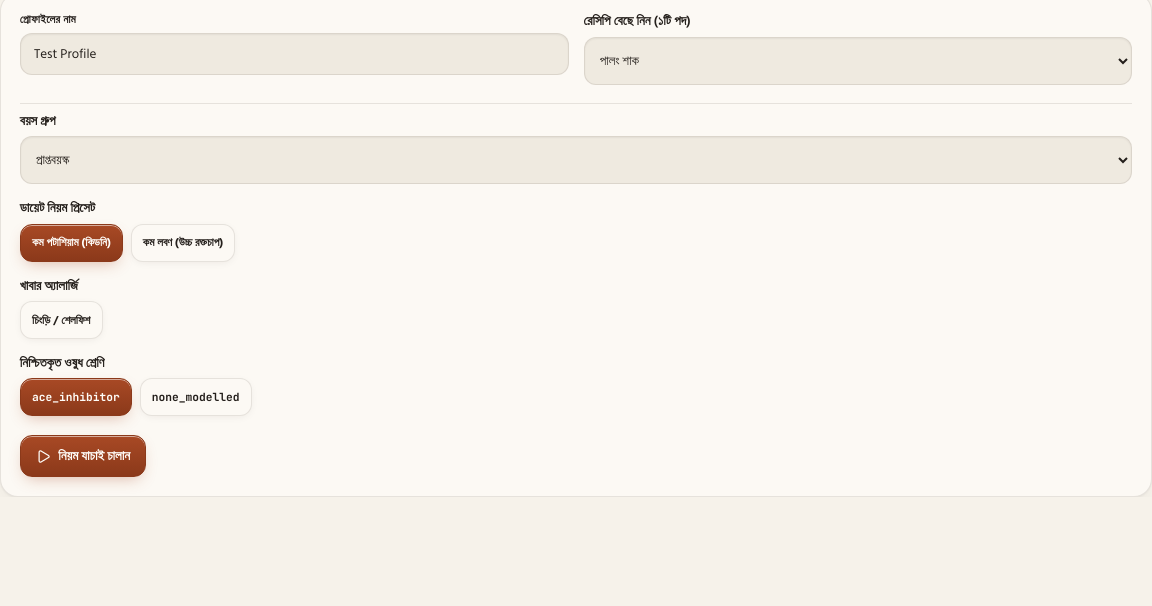
Phase 4 Feature Screens › EngineExplorerPage loads catalog and displays deterministic rule trace
This screenshot has width=1152, height=606.
What coordinates should you click on to do the following:
click the button with test id "engine-run-btn"
I would click on:
 (83, 456)
Its box is [20,435,146,477].
(page scrolled)
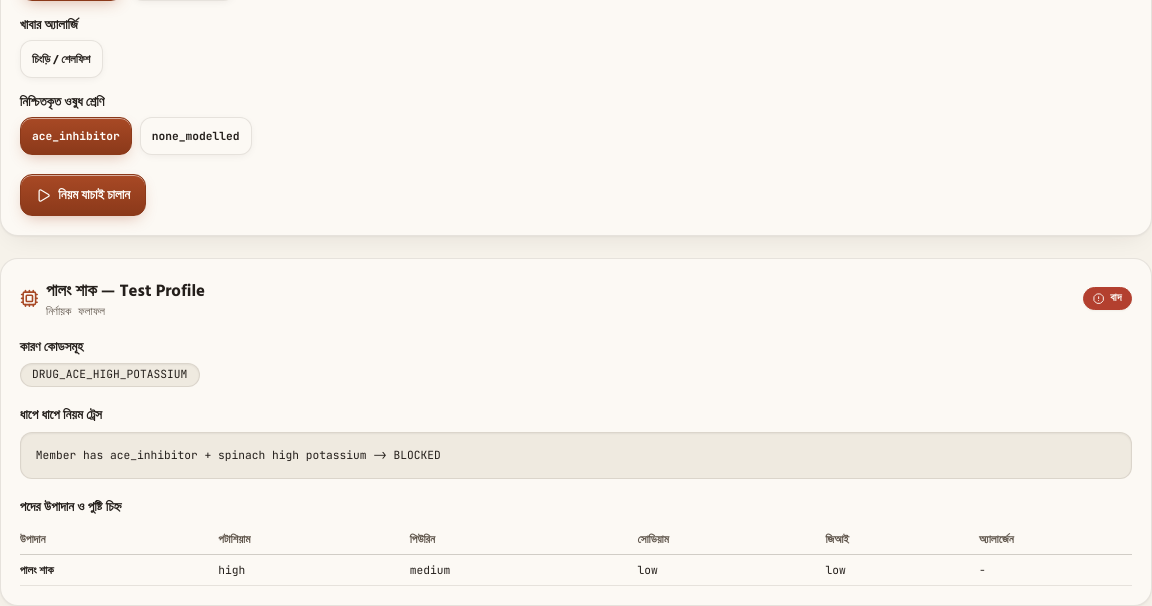
Result: the element with test id "engine-result-card" is shown at [0,258,1151,605]
Result: the element with test id "engine-result-card" shows "Member has ace_inhibitor + spinach high potassium -> BLOCKED" at [36,448,441,462]
Result: the text "DRUG_ACE_HIGH_POTASSIUM" is shown at [20,362,200,387]
